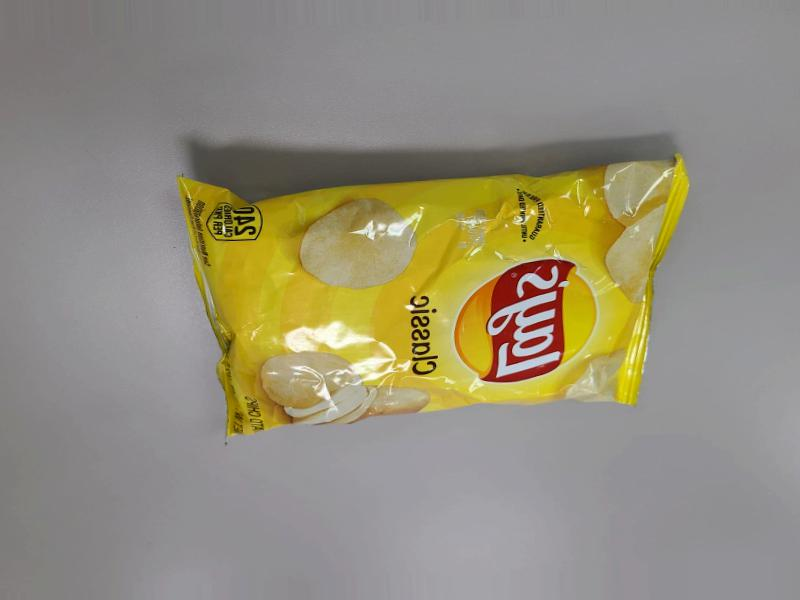lays: (177, 173, 659, 462)
